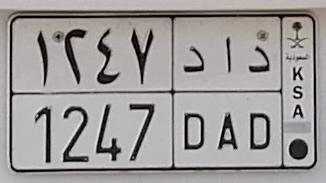1: (33, 30, 52, 165)
2: (61, 28, 91, 164)
4: (95, 27, 123, 162)
7: (129, 27, 157, 163)
A: (216, 36, 240, 151)
D: (247, 44, 272, 150), (184, 45, 207, 150)
